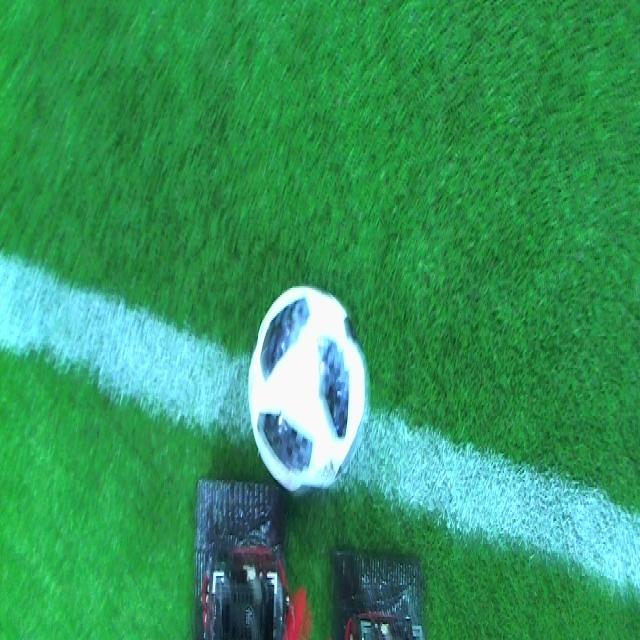ball: (246, 284, 367, 494)
